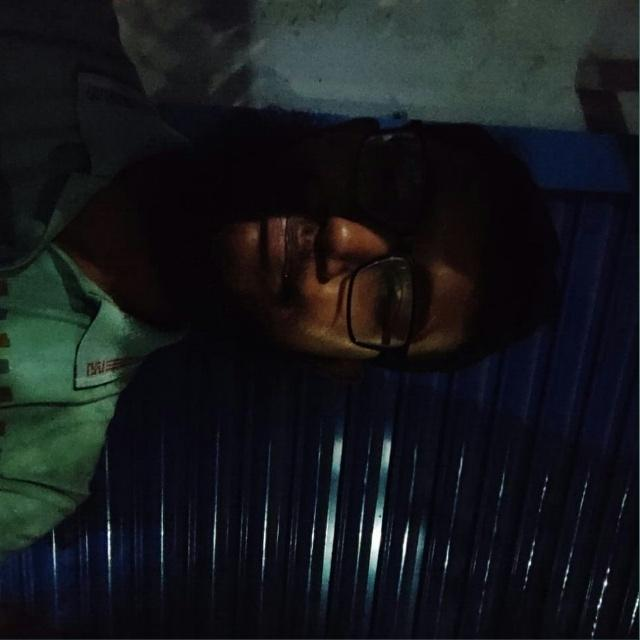Disgust: (168, 114, 506, 395)
